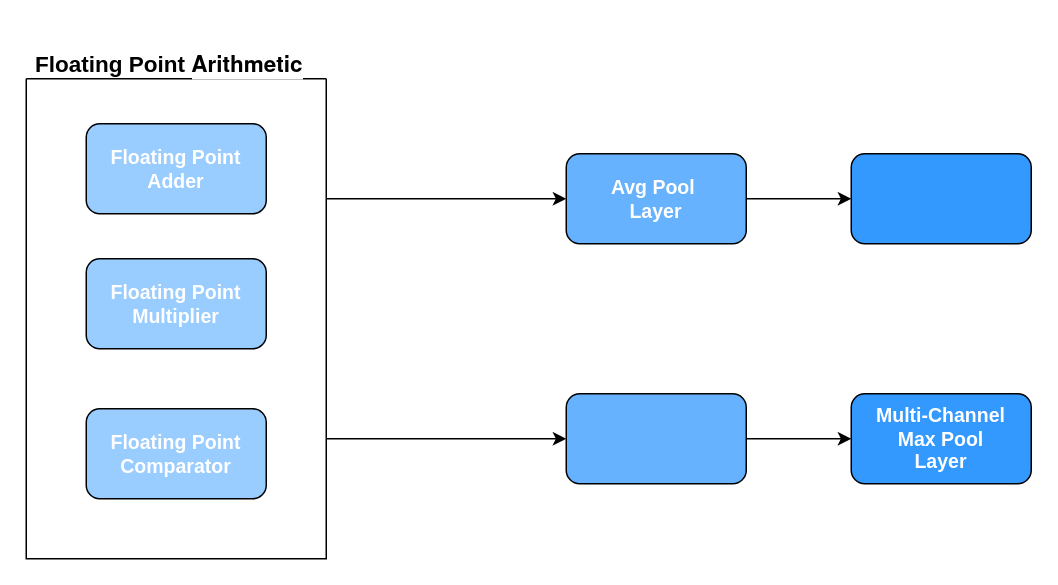
This 1058x585 diagram has some shape labels left out. The centre of each missing label's shape, as x and y in pixels:
Max Pool Layer: [655,438]
Multi-Channel Avg Pool Layer: [940,198]
